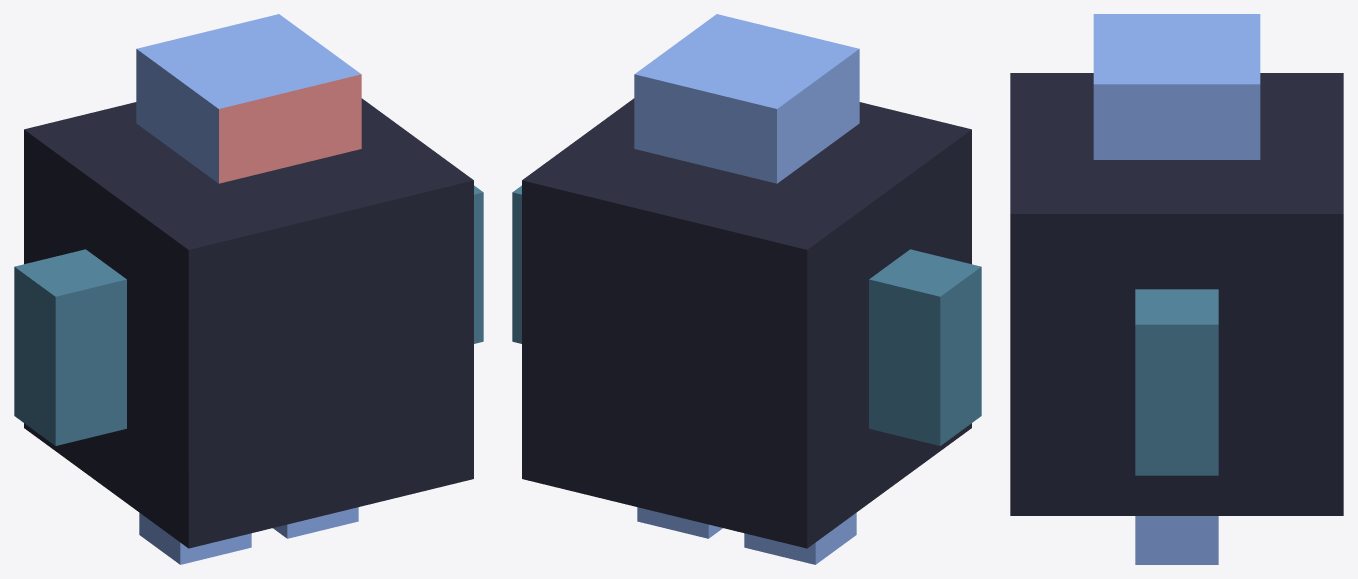
3 views of the same model, side by side, from view 1: azimuth 30°, elevation 25°; view 2: azimuth 150°, elevation 25°; view 3: azimuth 270°, elevation 25° (orthographic).
Parts seen in each view (by area): view 1: bf8da50d-d87d-9c08-f2ea-006a45459489, fdb6684f-44f7-b88d-645d-d544659f9d8c, bfeef659-2baa-eabd-1bc7-9a1ba840798b, af6d0056-b1f5-4daf-bf8c-ddf49ff44e9f, 2f0faf44-264b-2912-4543-ac8ebb220eb4, 83ff367e-ab1c-25c7-9d38-0e5eab1075a3; view 2: bf8da50d-d87d-9c08-f2ea-006a45459489, fdb6684f-44f7-b88d-645d-d544659f9d8c, bfeef659-2baa-eabd-1bc7-9a1ba840798b, af6d0056-b1f5-4daf-bf8c-ddf49ff44e9f, 2f0faf44-264b-2912-4543-ac8ebb220eb4, 83ff367e-ab1c-25c7-9d38-0e5eab1075a3; view 3: bf8da50d-d87d-9c08-f2ea-006a45459489, fdb6684f-44f7-b88d-645d-d544659f9d8c, 2f0faf44-264b-2912-4543-ac8ebb220eb4, 83ff367e-ab1c-25c7-9d38-0e5eab1075a3.
Part boxes in pixels (bbox=[...]): bf8da50d-d87d-9c08-f2ea-006a45459489: bbox=[24, 98, 473, 548]; fdb6684f-44f7-b88d-645d-d544659f9d8c: bbox=[136, 14, 361, 183]; bfeef659-2baa-eabd-1bc7-9a1ba840798b: bbox=[14, 249, 126, 445]; af6d0056-b1f5-4daf-bf8c-ddf49ff44e9f: bbox=[139, 513, 251, 564]; 2f0faf44-264b-2912-4543-ac8ebb220eb4: bbox=[474, 185, 483, 343]; 83ff367e-ab1c-25c7-9d38-0e5eab1075a3: bbox=[273, 507, 358, 538]; bf8da50d-d87d-9c08-f2ea-006a45459489: bbox=[522, 98, 971, 548]; fdb6684f-44f7-b88d-645d-d544659f9d8c: bbox=[634, 14, 859, 183]; bfeef659-2baa-eabd-1bc7-9a1ba840798b: bbox=[869, 249, 981, 445]; af6d0056-b1f5-4daf-bf8c-ddf49ff44e9f: bbox=[744, 513, 856, 564]; 2f0faf44-264b-2912-4543-ac8ebb220eb4: bbox=[512, 185, 521, 343]; 83ff367e-ab1c-25c7-9d38-0e5eab1075a3: bbox=[637, 507, 722, 538]; bf8da50d-d87d-9c08-f2ea-006a45459489: bbox=[1010, 73, 1343, 515]; fdb6684f-44f7-b88d-645d-d544659f9d8c: bbox=[1093, 14, 1260, 159]; 2f0faf44-264b-2912-4543-ac8ebb220eb4: bbox=[1135, 289, 1218, 475]; 83ff367e-ab1c-25c7-9d38-0e5eab1075a3: bbox=[1135, 516, 1218, 564].
Bounding box in the file's own units: 0.375 × 0.3906 × 0.25.
Materials: 1 (1 with a texture image).
